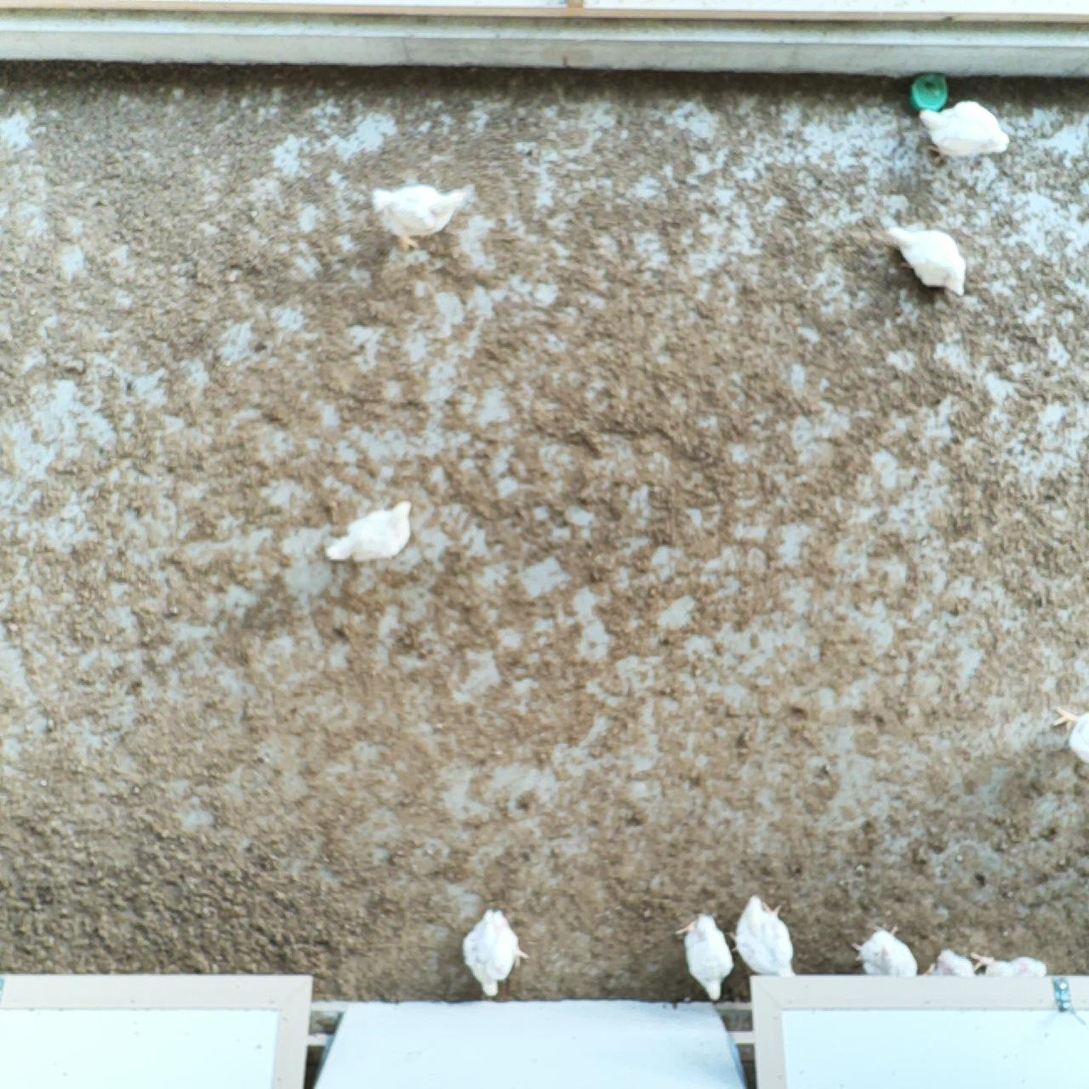chicken: (367, 178, 469, 251), (883, 215, 969, 296), (723, 893, 797, 987), (915, 96, 1010, 167), (319, 499, 415, 568), (460, 907, 530, 1000), (671, 911, 735, 1002), (852, 924, 919, 998), (972, 947, 1047, 1000), (921, 947, 978, 1009), (1046, 699, 1089, 769)
